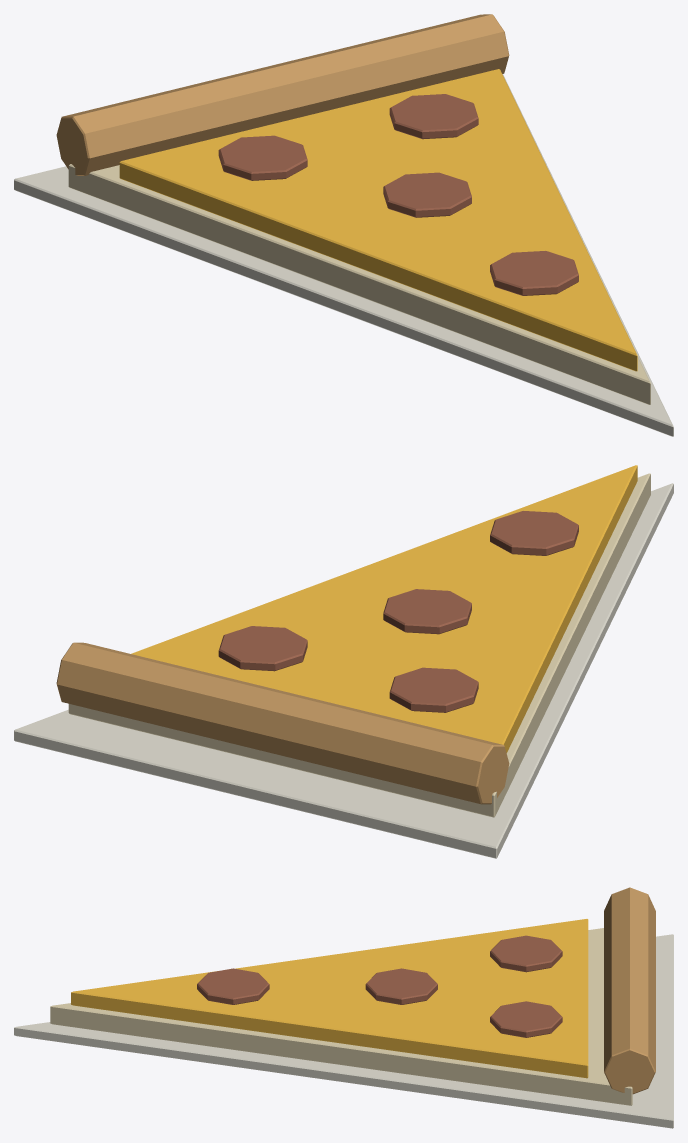
The model's file is b16_pizza_slice_in_triangle_tray.glb.
3 views of the same model, one above another, from view 1: azimuth 30°, elevation 25°; view 2: azimuth 150°, elevation 25°; view 3: azimuth 270°, elevation 25° (orthographic). The views are drawn at different scales.
Visible parts, largest first — view 1: b16_pizza_slice_in_triangle_tray; view 2: b16_pizza_slice_in_triangle_tray; view 3: b16_pizza_slice_in_triangle_tray.
Part boxes in pixels (x1,y1,x2,y2): b16_pizza_slice_in_triangle_tray: [14, 14, 673, 436]; b16_pizza_slice_in_triangle_tray: [14, 465, 673, 858]; b16_pizza_slice_in_triangle_tray: [14, 887, 673, 1128].
Size of the model in its own units: 0.1697 by 0.029 by 0.2546.
